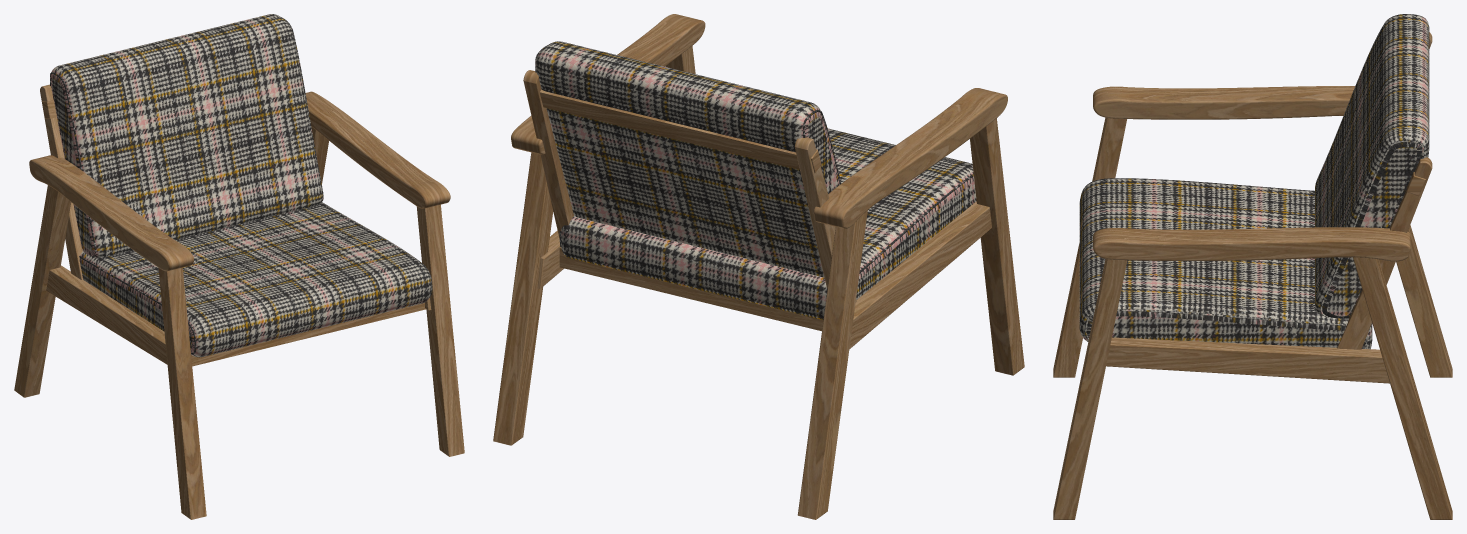
The model's file is chair.glb.
3 renders of one model, left to right at view 1: azimuth 30°, elevation 25°; view 2: azimuth 150°, elevation 25°; view 3: azimuth 270°, elevation 25°, orthographic. The views are drawn at different scales.
Parts seen in each view (by area): view 1: back-pad, seat-pad, front-leg-left, front-leg-right, armrest-left, armrest-right, rear-leg-left, side-rail-left, front-tie, back-upright-left; view 2: back-pad, seat-pad, rear-leg-left, armrest-left, rear-leg-right, front-leg-left, side-rail-left, back-tie, armrest-right, rear-tie, back-upright-right, back-upright-left (+1 smaller); view 3: seat-pad, back-pad, armrest-right, side-rail-right, armrest-left, rear-leg-right, front-leg-right, front-leg-left, rear-leg-left, back-upright-right, seat-pad-welt-1, back-pad-welt-1.
Part boxes in pixels (x1,y1,x2,y2): back-pad: (51, 14, 322, 257); seat-pad: (79, 202, 431, 357); front-leg-left: (158, 267, 206, 519); front-leg-right: (416, 204, 464, 456); armrest-left: (29, 155, 193, 271); armrest-right: (305, 91, 450, 208); rear-leg-left: (14, 185, 71, 397); side-rail-left: (46, 265, 167, 364); front-tie: (191, 302, 426, 366); back-upright-left: (40, 84, 83, 279); back-pad: (536, 41, 839, 277); seat-pad: (560, 128, 976, 320); rear-leg-left: (797, 210, 867, 519); armrest-left: (813, 88, 1007, 228); rear-leg-right: (493, 152, 553, 445); front-leg-left: (970, 118, 1024, 375); side-rail-left: (849, 201, 991, 349); back-tie: (539, 89, 821, 172); armrest-right: (511, 14, 705, 154); rear-tie: (559, 247, 823, 331); back-upright-right: (523, 70, 573, 238); back-upright-left: (794, 137, 856, 302); seat-pad: (1079, 178, 1372, 349); back-pad: (1315, 14, 1429, 318); armrest-right: (1093, 227, 1410, 261); side-rail-right: (1106, 337, 1389, 383); armrest-left: (1093, 86, 1355, 119); rear-leg-right: (1353, 257, 1452, 519); front-leg-right: (1053, 259, 1127, 519); front-leg-left: (1053, 117, 1126, 377); rear-leg-left: (1396, 225, 1452, 377); back-upright-right: (1337, 157, 1432, 349); seat-pad-welt-1: (1084, 309, 1367, 348); back-pad-welt-1: (1320, 140, 1423, 317).
Bounding box in the file's own units: 0.7 × 0.78 × 0.76.
Materials: 2 (2 with a texture image).
